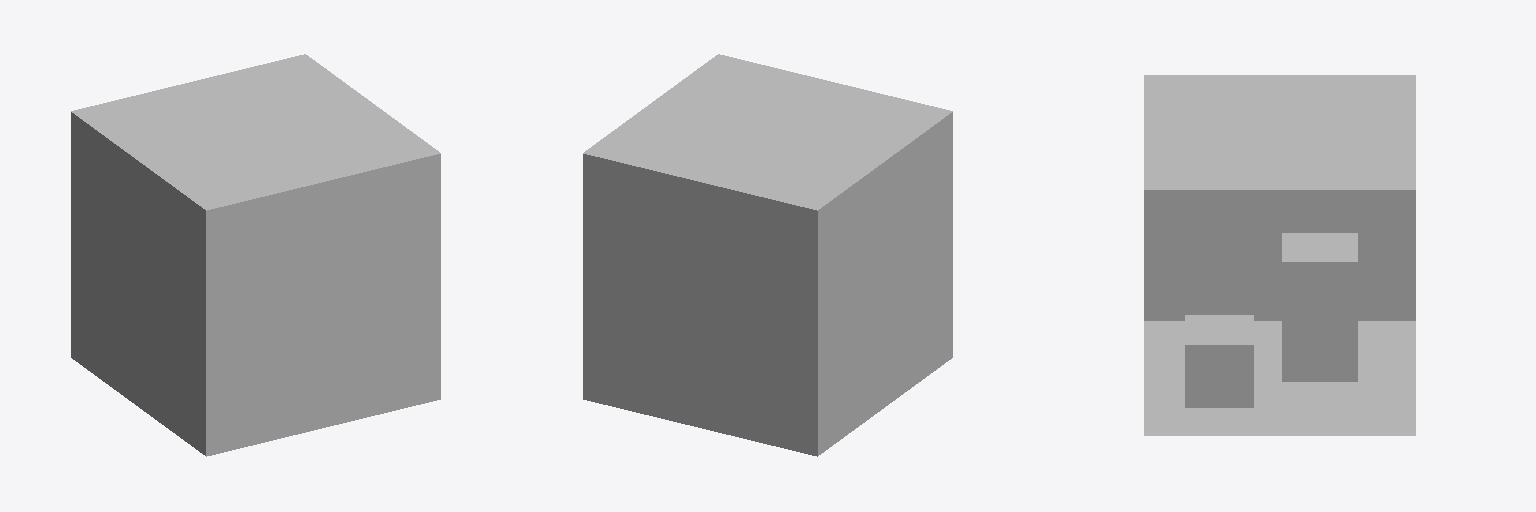
The model's file is cornell_box.obj.
3 renders of one model, left to right at view 1: azimuth 30°, elevation 25°; view 2: azimuth 150°, elevation 25°; view 3: azimuth 270°, elevation 25°, orthographic.
Visible parts, largest first — view 1: Cube.002; view 2: Cube.002; view 3: Cube.002, Cube.001, Cube.
Boxes of the visible parts, x1,y1,x2,y2 form: Cube.002: [71, 54, 440, 456]; Cube.002: [583, 54, 952, 456]; Cube.002: [1144, 75, 1415, 435]; Cube.001: [1282, 233, 1357, 381]; Cube: [1185, 315, 1253, 407].
Bounding box in the file's own units: 2 × 2.01 × 2.